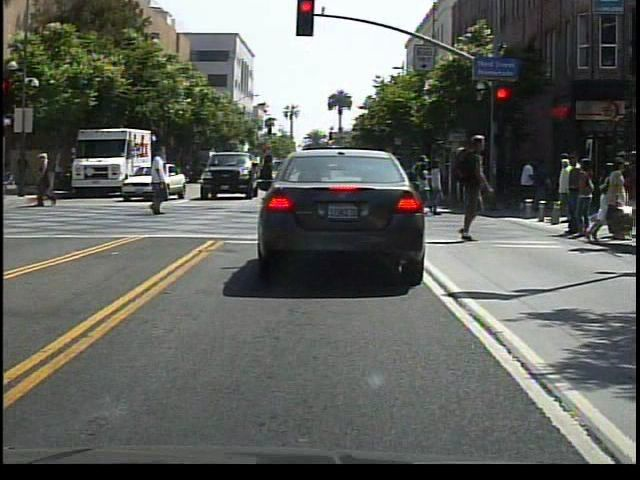person: (440, 133, 493, 246), (586, 152, 633, 245), (139, 149, 175, 225), (245, 155, 278, 214), (552, 154, 578, 225), (32, 150, 57, 214), (517, 155, 537, 221)
